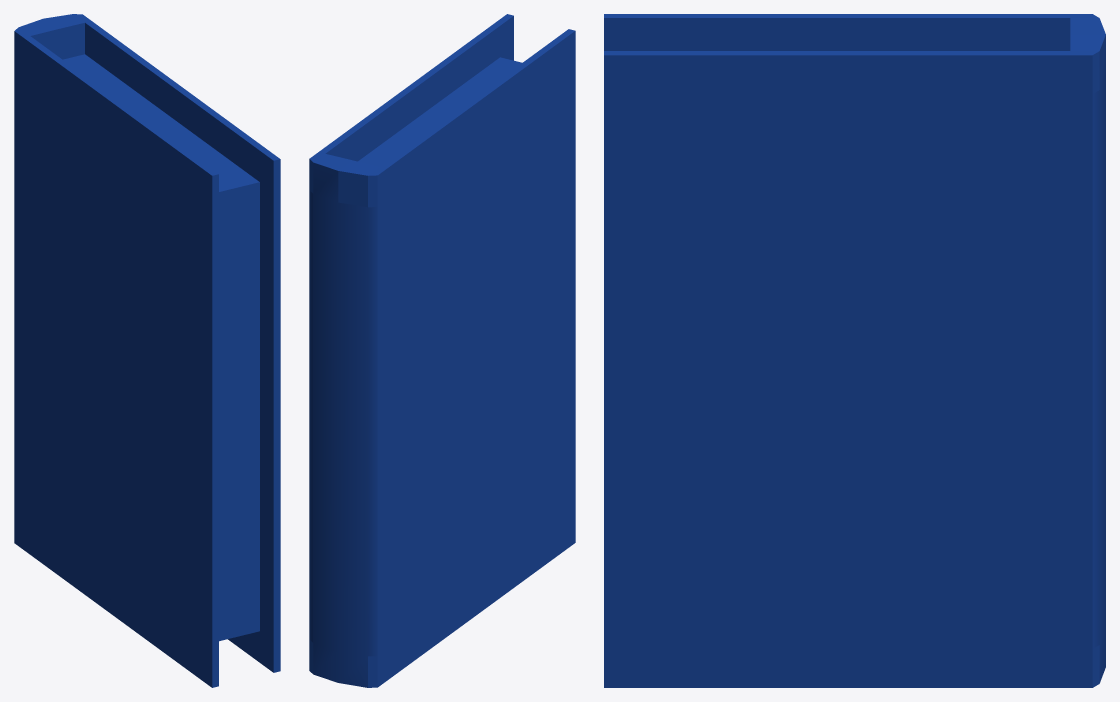
Rendered from geo_livreUV.fbx.
3 renders of one model, left to right at view 1: azimuth 30°, elevation 25°; view 2: azimuth 150°, elevation 25°; view 3: azimuth 270°, elevation 25°, orthographic. The views are drawn at different scales.
Visible parts, largest first — view 1: geo_livreUV; view 2: geo_livreUV; view 3: geo_livreUV.
Part boxes in pixels (x1,y1,x2,y2): geo_livreUV: [14, 14, 280, 687]; geo_livreUV: [309, 14, 575, 687]; geo_livreUV: [604, 14, 1105, 687].
Size of the model in its own units: 0.7321 by 5.24 by 3.77.
